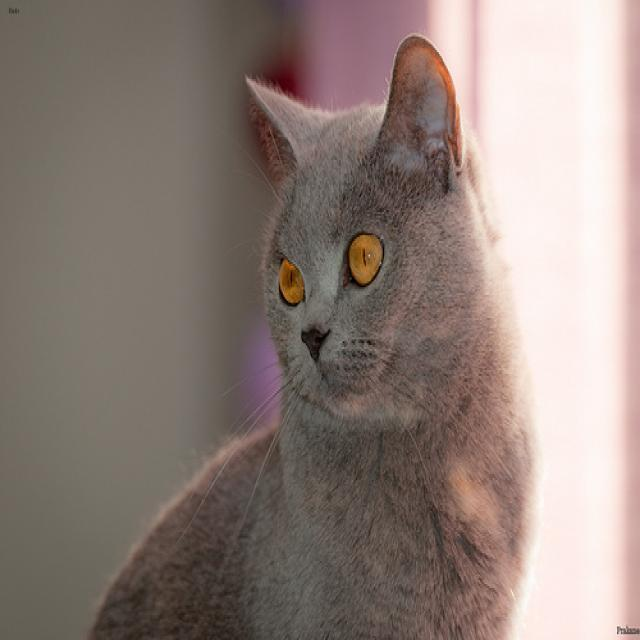British_Shorthair: (244, 37, 476, 456)
